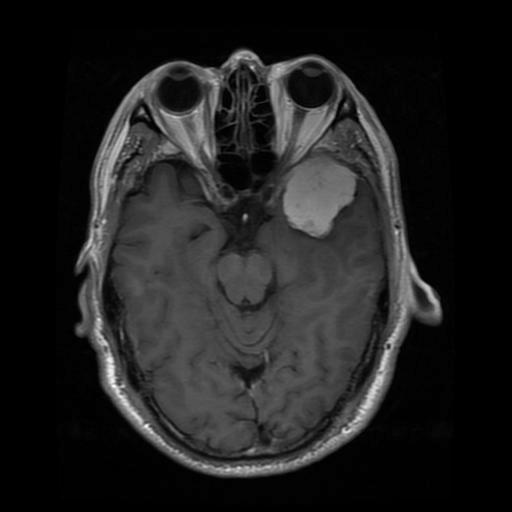Tumour-Meningioma: (261, 162, 372, 236)
